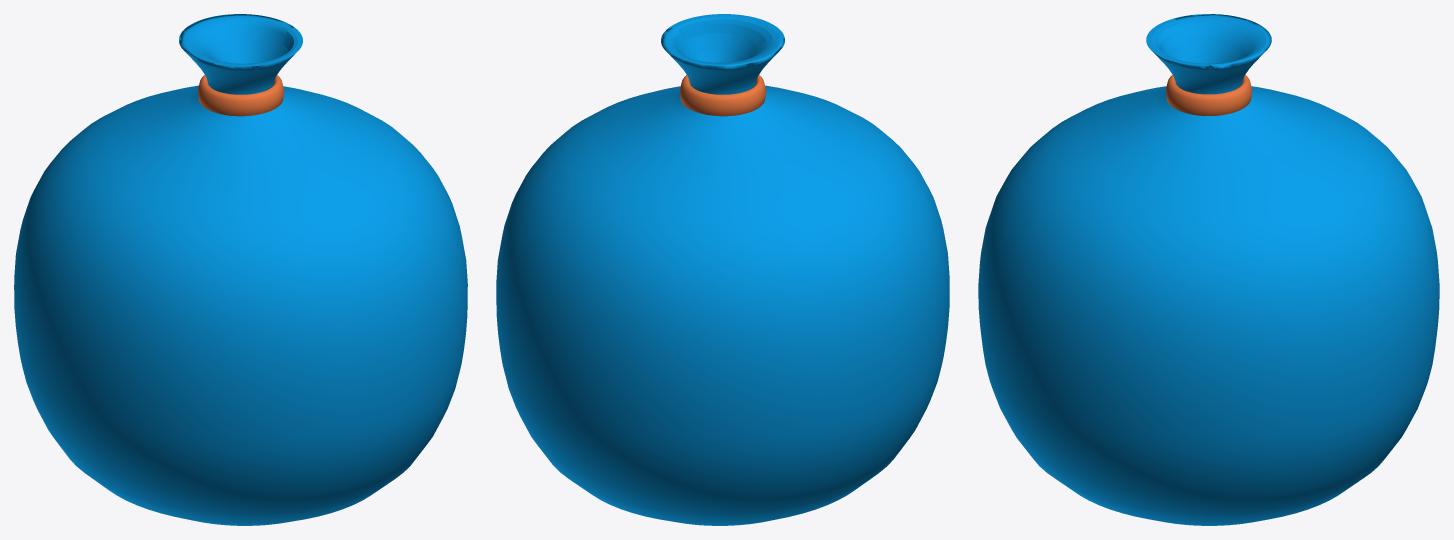
Rendered from Garbage.fbx.
3 views of the same model, side by side, from view 1: azimuth 30°, elevation 25°; view 2: azimuth 150°, elevation 25°; view 3: azimuth 270°, elevation 25° (orthographic).
Visible parts, largest first — view 1: Circle.002; view 2: Circle.002; view 3: Circle.002.
Part boxes in pixels (<box>): Circle.002: <box>14,14,467,525</box>; Circle.002: <box>496,14,949,525</box>; Circle.002: <box>978,14,1439,525</box>.
Bounding box in the file's own units: 195 × 218 × 200.
